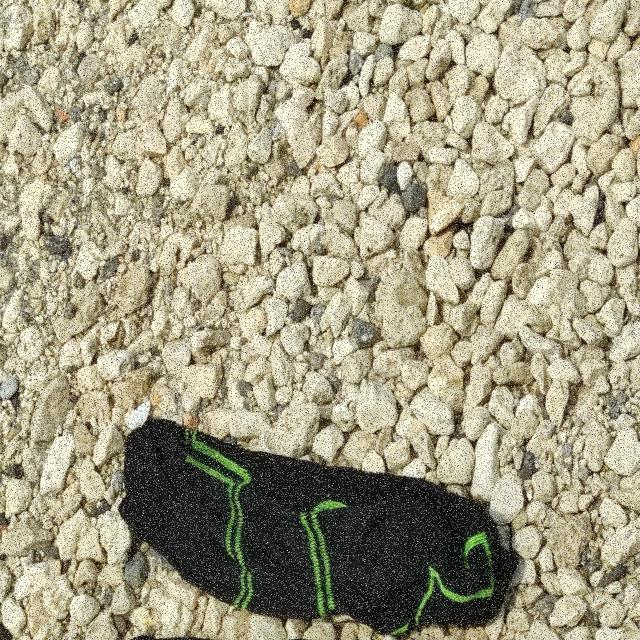textile_waste: (118, 417, 523, 640)
